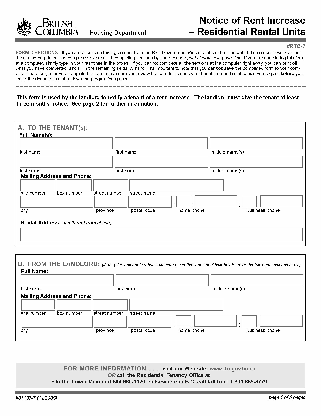textbox: (19, 226, 303, 242), (113, 154, 209, 169), (129, 297, 225, 312), (114, 136, 209, 151), (19, 137, 115, 151), (129, 178, 225, 192), (209, 137, 304, 151), (19, 155, 114, 169), (20, 273, 115, 287), (115, 273, 210, 287), (210, 273, 304, 287), (210, 155, 304, 168), (19, 195, 94, 209), (20, 315, 93, 328), (259, 194, 304, 209), (127, 314, 173, 328), (128, 195, 173, 209), (259, 314, 304, 328), (194, 195, 238, 208), (194, 314, 238, 327), (93, 314, 127, 329), (92, 179, 130, 192), (56, 179, 93, 192), (56, 298, 93, 311), (92, 298, 129, 311), (94, 195, 128, 209), (20, 179, 56, 192), (21, 298, 56, 311), (241, 195, 258, 209), (241, 314, 258, 328), (175, 195, 192, 208), (175, 315, 192, 328)
